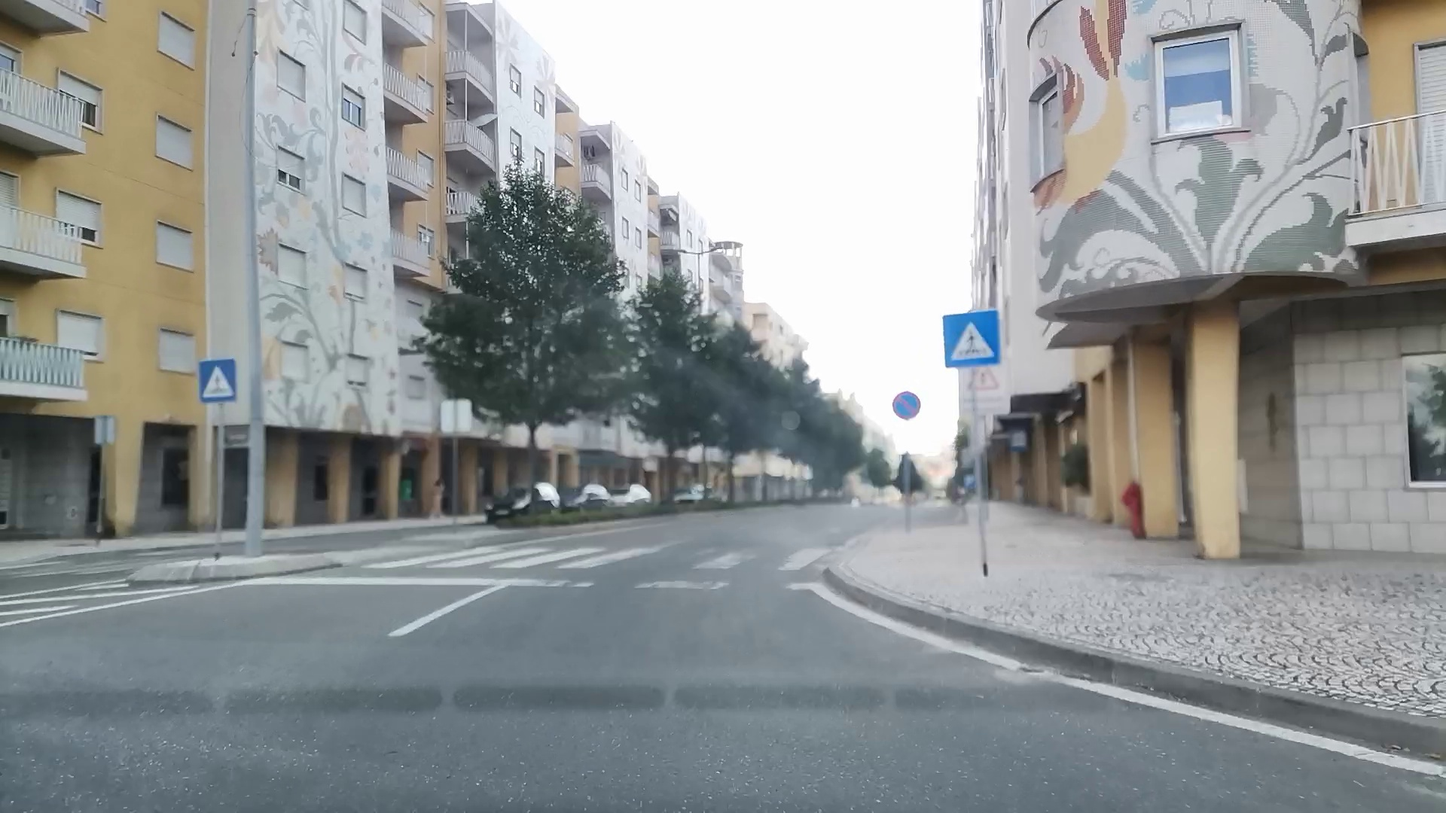Stairs: (355, 538, 832, 581)
